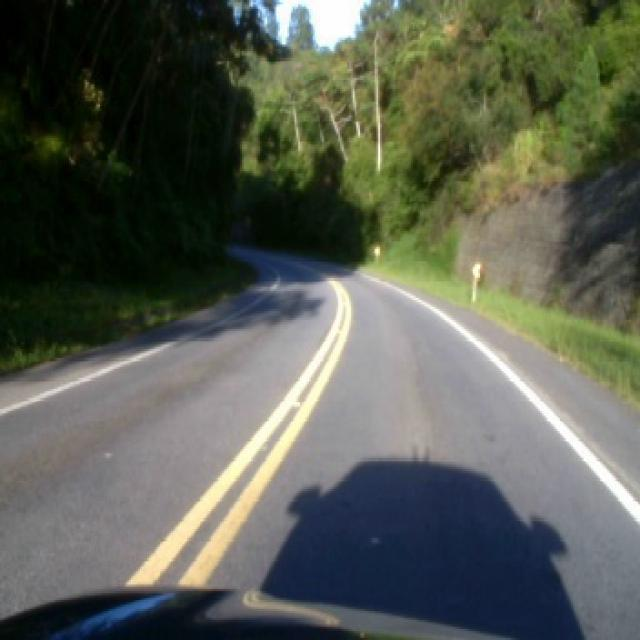Poth-hole: (291, 398, 300, 404), (334, 326, 340, 332)
